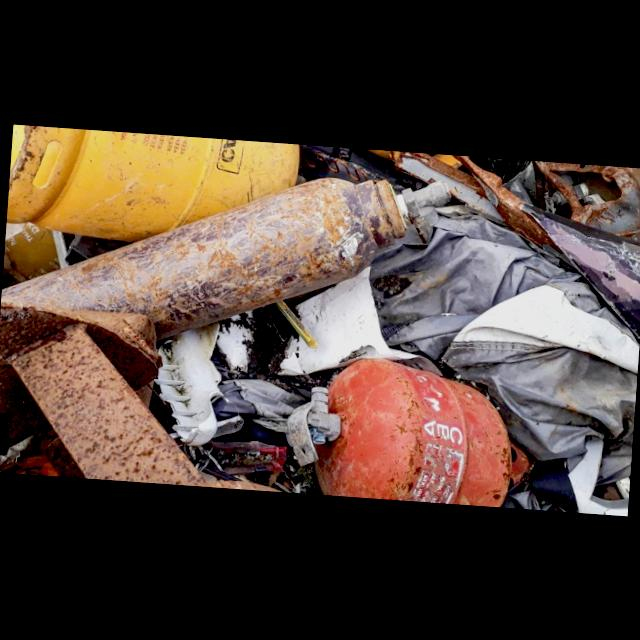Cylinders: (6, 125, 305, 239), (289, 362, 517, 508)
